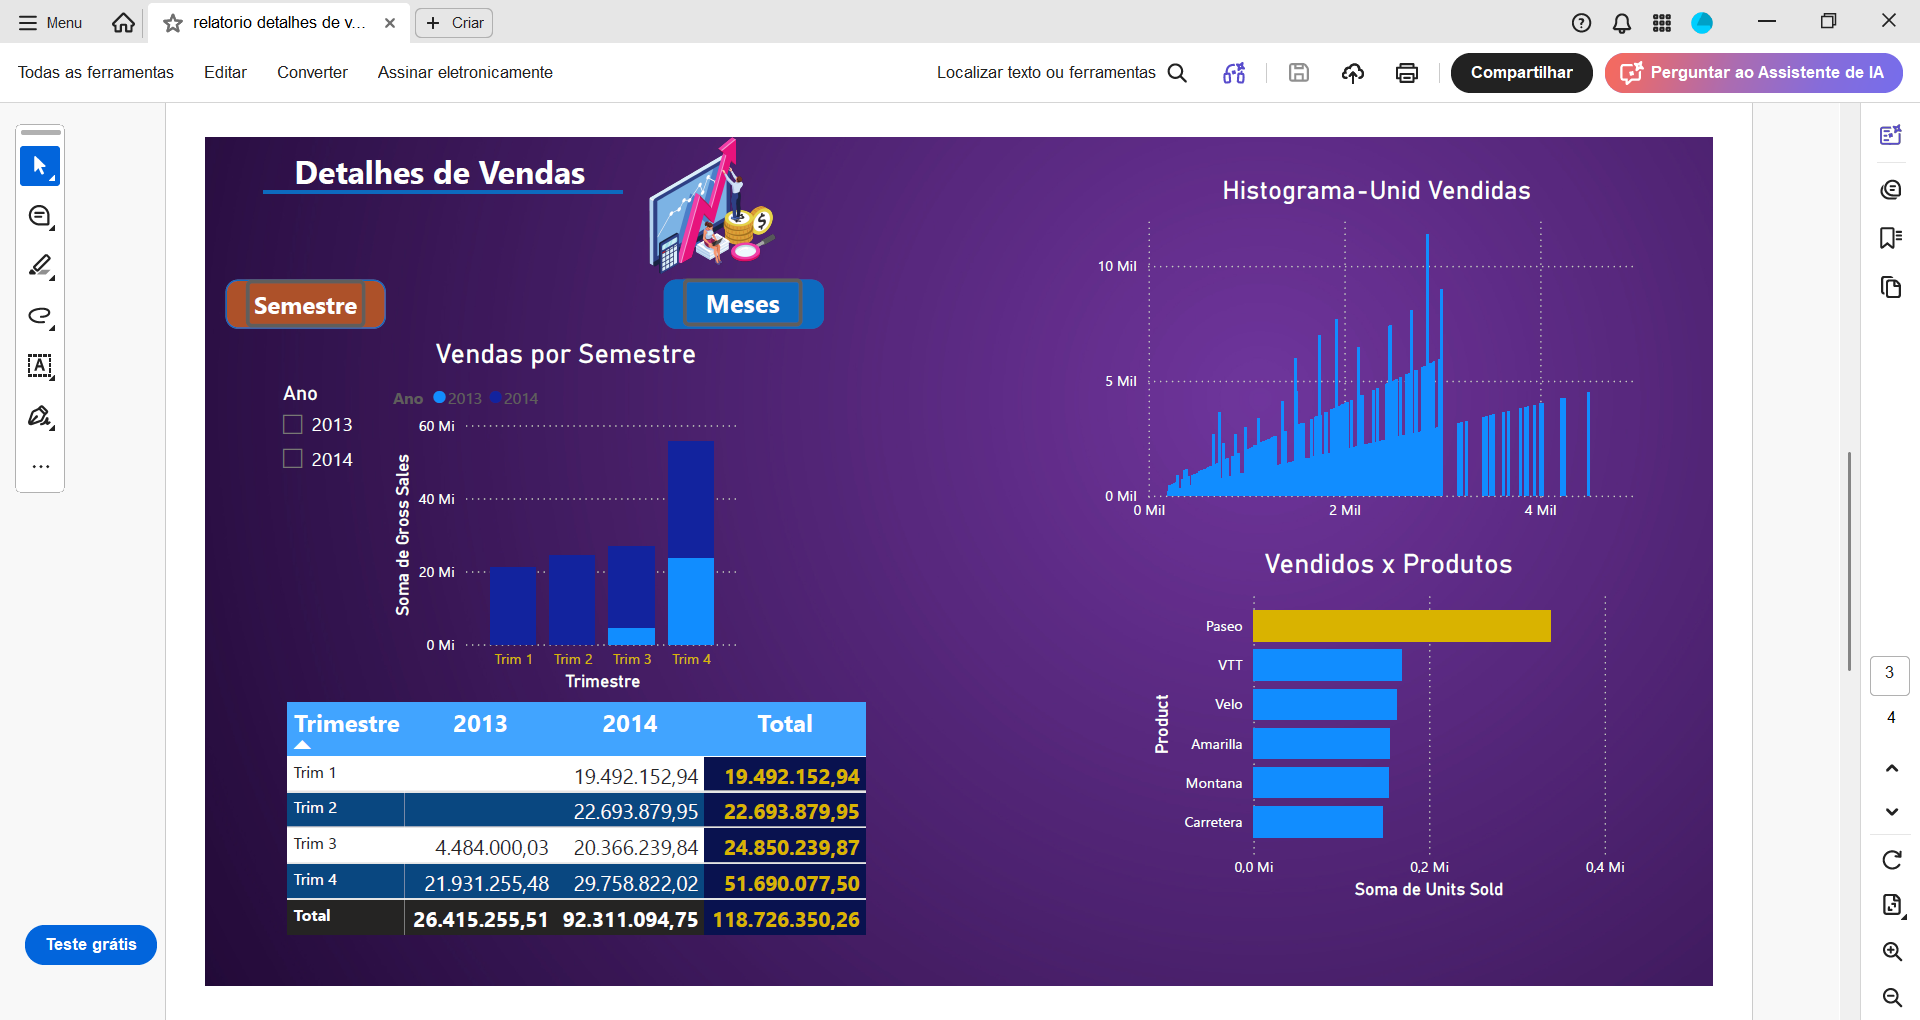

The dashboard page shown, as its layout file describes it:
{"tool":"powerbi","page":{"name":"Detalhes de Vendas","canvas":[1280,720],"ordinal":2},"visuals":[{"type":"image","box":[0,0,1279.9,720],"z":0},{"type":"image","box":[0,0,1279.9,720],"z":1000},{"type":"textbox","box":[18.2,9.9,381.3,79.6],"z":2000},{"type":"shape","box":[58,26.5,299.6,47.7],"z":3000},{"type":"image","box":[358.1,0,150.9,124.4],"z":4000},{"type":"columnChart","title":"Vendas por Semestre","fields":{"Category":["financials.Date.Variation.Hierarquia de datas.Trimestre"],"Series":["financials.Date.Variation.Hierarquia de datas.Ano"],"Y":["Sum(financials.Gross Sales)"]},"box":[160.5,172.9,300,300],"z":5000},{"type":"slicer","fields":{"Values":["financials.Date.Variation.Hierarquia de datas.Ano"]},"box":[61.3,203.9,199,94.5],"z":6000},{"type":"pivotTable","fields":{"Columns":["financials.Date.Variation.Hierarquia de datas.Ano"],"Rows":["financials.Date.Variation.Hierarquia de datas.Trimestre"],"Values":["Sum(financials. Sales)"]},"box":[73.4,473.2,566.2,245.8],"z":7000},{"type":"clusteredColumnChart","title":"Histograma-Unid Vendidas","fields":{"Category":["financials.Units Sold"],"Y":["Sum(financials.Units Sold)"]},"box":[751.1,36.5,477.5,298.4],"z":8000},{"type":"barChart","title":"Vendidos x Produtos","fields":{"Category":["financials.Product"],"Y":["Sum(financials.Units Sold)"]},"box":[797.3,348.5,406,299.6],"z":9000},{"type":"shape","box":[26.5,124.1,133.9,40.4],"z":10000},{"type":"actionButton","box":[43.2,124.1,100,40],"z":11000},{"type":"shape","box":[393.2,124.1,133.9,40.4],"z":12000},{"type":"actionButton","box":[408.5,122.7,100,40],"z":13000}]}

Visuals, with their boxes on the page's 1280x720 design canvas (x1, y1, x2, y2). These are canvas units, not pixel positions in the 1920x1020 screenshot, which may show the page scaled, cropped or inside an application window:
image: [left=0, top=0, right=1280, bottom=720]
image: [left=0, top=0, right=1280, bottom=720]
textbox: [left=18, top=10, right=400, bottom=90]
shape: [left=58, top=26, right=358, bottom=74]
image: [left=358, top=0, right=509, bottom=124]
"Vendas por Semestre" columnChart: [left=160, top=173, right=460, bottom=473]
slicer - financials.Date.Variation.Hierarquia de datas.Ano: [left=61, top=204, right=260, bottom=298]
pivotTable - financials.Date.Variation.Hierarquia de datas.Ano x financials.Date.Variation.Hierarquia de datas.Trimestre: [left=73, top=473, right=640, bottom=719]
"Histograma-Unid Vendidas" clusteredColumnChart: [left=751, top=36, right=1229, bottom=335]
"Vendidos x Produtos" barChart: [left=797, top=348, right=1203, bottom=648]
shape: [left=26, top=124, right=160, bottom=164]
actionButton: [left=43, top=124, right=143, bottom=164]
shape: [left=393, top=124, right=527, bottom=164]
actionButton: [left=408, top=123, right=508, bottom=163]
